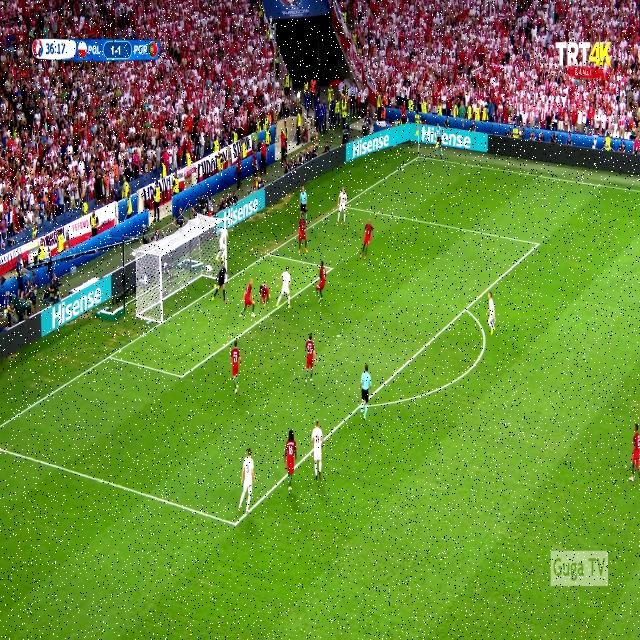Ball: (296, 90, 301, 100)
GoalKeeper: (210, 256, 230, 304)
TEAM 1: (237, 448, 255, 516), (311, 421, 324, 481), (304, 332, 316, 388), (278, 267, 291, 310), (336, 188, 348, 228), (488, 293, 498, 334)
TEAM 2: (627, 404, 640, 492), (214, 211, 230, 264), (283, 430, 297, 490), (229, 346, 242, 396), (314, 262, 328, 306), (242, 278, 255, 317), (362, 222, 374, 260), (297, 216, 309, 254), (257, 283, 270, 306)
